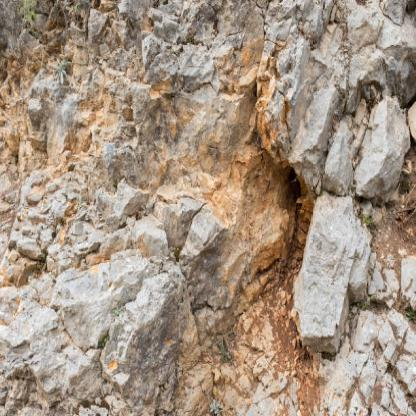Sedimentary_Limestone: (295, 178, 362, 359), (260, 5, 342, 152), (135, 25, 232, 122), (357, 88, 406, 199), (174, 176, 218, 270)
